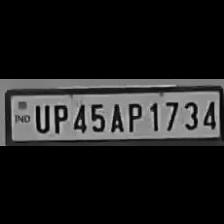1: (144, 99, 160, 131)
3: (180, 96, 198, 130)
4: (198, 96, 218, 128), (69, 99, 87, 131)
5: (86, 98, 106, 132)
7: (160, 97, 178, 131)
A: (108, 98, 125, 132)
P: (48, 100, 68, 132), (124, 98, 142, 132)
U: (32, 99, 50, 131)
